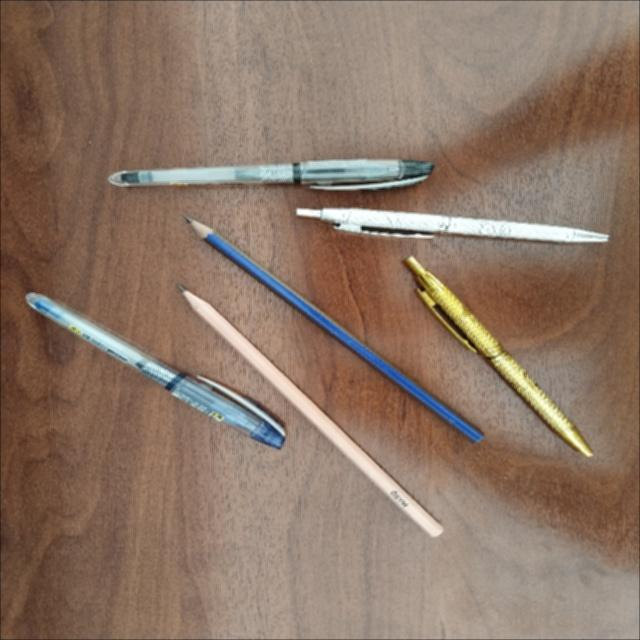pen: (26, 293, 284, 448), (108, 159, 433, 189)
pencil: (186, 217, 483, 441), (178, 286, 442, 536)
signature pen: (404, 256, 592, 456), (296, 208, 607, 242)
